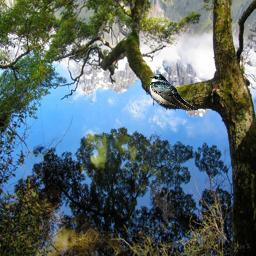Swallow: (149, 73, 198, 111)
